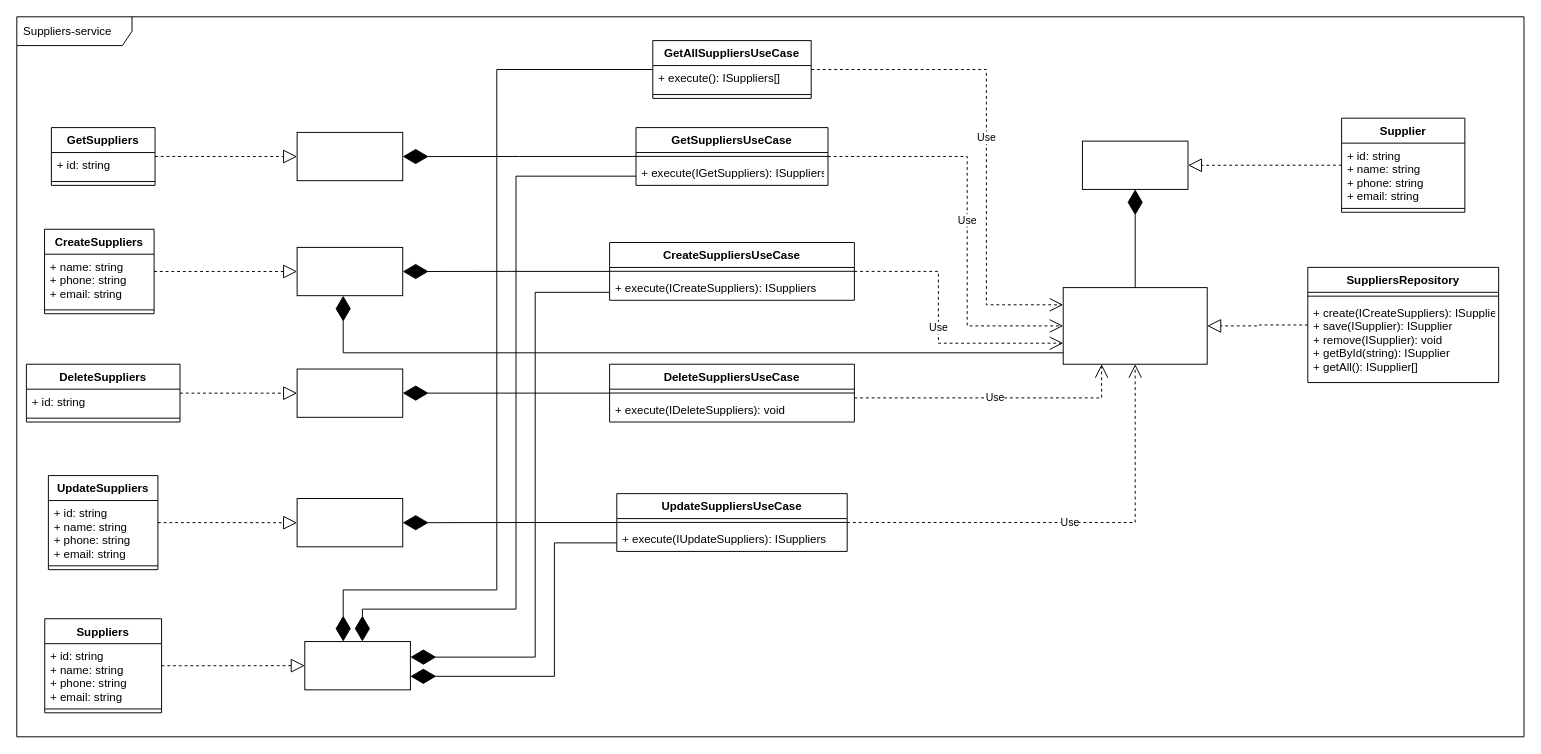
This 1541x754 diagram has some shape labels left out. Here are the shapes that lost their labels. From the top down, the centre of each, then its label:
the point at 349,156: «interface» IGetSuppliers
the point at 1134,164: «interface» ISupplier
the point at 349,271: «interface» ICreateSuppliers
the point at 1134,325: «interface» ISuppliersRepository
the point at 349,392: «interface» IDeleteSuppliers
the point at 349,522: «interface» IUpdateSuppliers
the point at 357,665: «interface» ISuppliers
